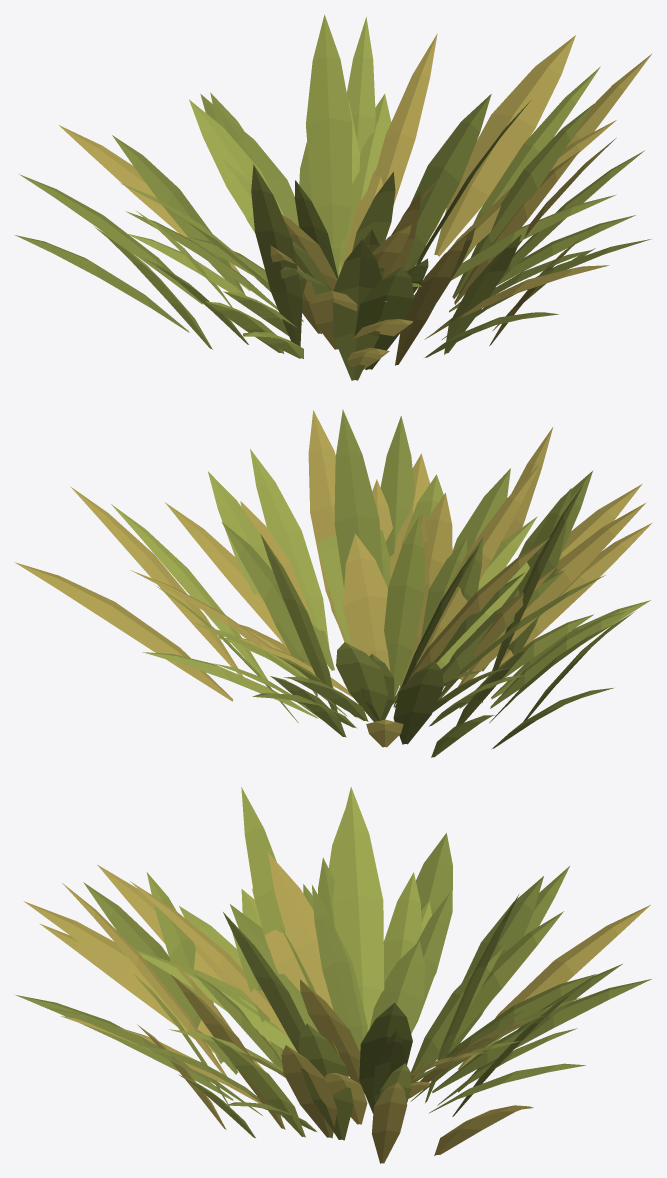
The model's file is grass_wide.glb.
3 renders of one model, top to bottom at view 1: azimuth 30°, elevation 25°; view 2: azimuth 150°, elevation 25°; view 3: azimuth 270°, elevation 25°, orthographic. The views are drawn at different scales.
Visible parts, largest first — view 1: grass_wide; view 2: grass_wide; view 3: grass_wide.
Boxes of the visible parts, left/top/right/bottom form: grass_wide: left=15, top=14, right=651, bottom=380; grass_wide: left=14, top=409, right=651, bottom=757; grass_wide: left=14, top=787, right=651, bottom=1163.
Bounding box in the file's own units: 1.46 × 0.5436 × 1.32.
